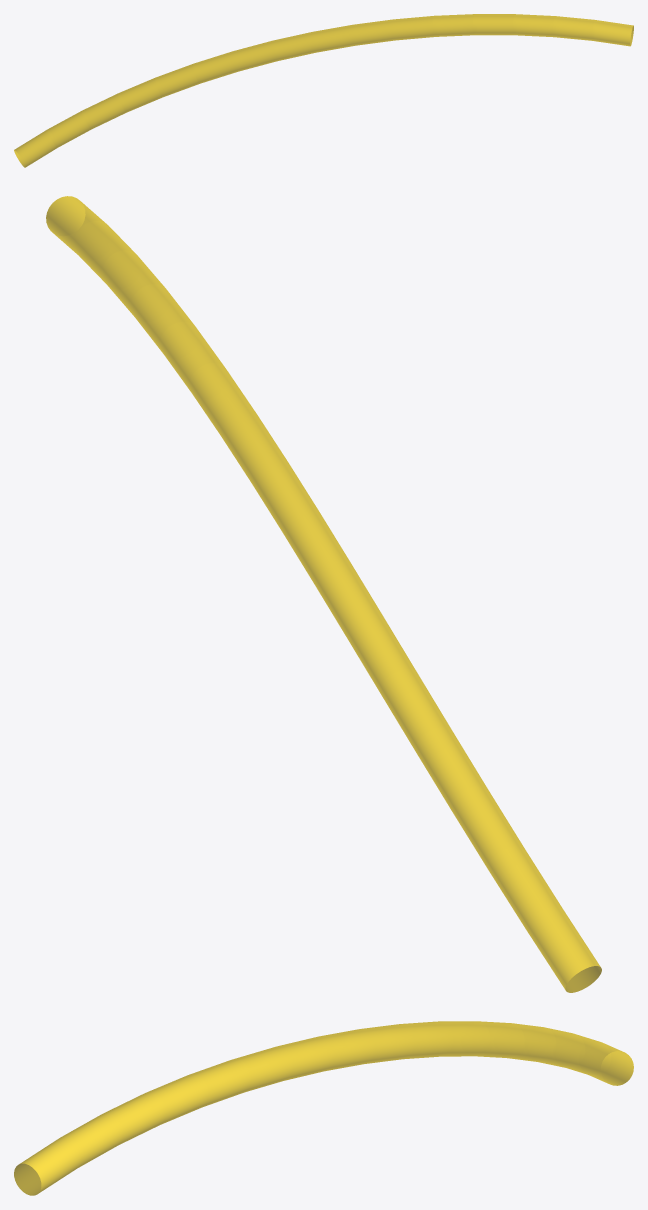
Rendered from Event_84804159_track_69.fbx.
The picture shows the model from 3 angles, top to bottom: view 1: azimuth 30°, elevation 25°; view 2: azimuth 150°, elevation 25°; view 3: azimuth 270°, elevation 25°; orthographic projection. The views are drawn at different scales.
Visible parts, largest first — view 1: Model; view 2: Model; view 3: Model.
Part boxes in pixels (left/top/right/bottom): Model: left=14, top=14, right=633, bottom=167; Model: left=46, top=196, right=601, bottom=992; Model: left=14, top=1021, right=633, bottom=1195.
Size of the model in its own units: 0.9741 by 0.3492 by 0.7011.
